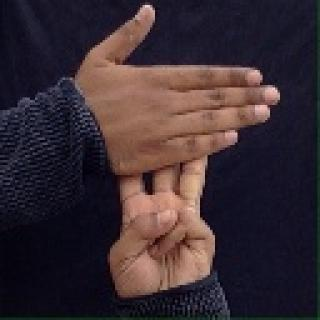M: (83, 0, 276, 320)
